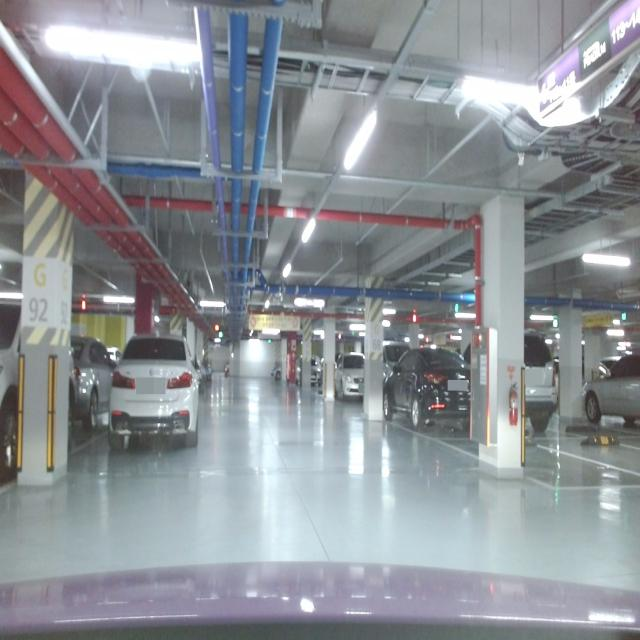empty: (452, 426, 625, 506)
occupied: (378, 329, 474, 432), (102, 338, 196, 441)
